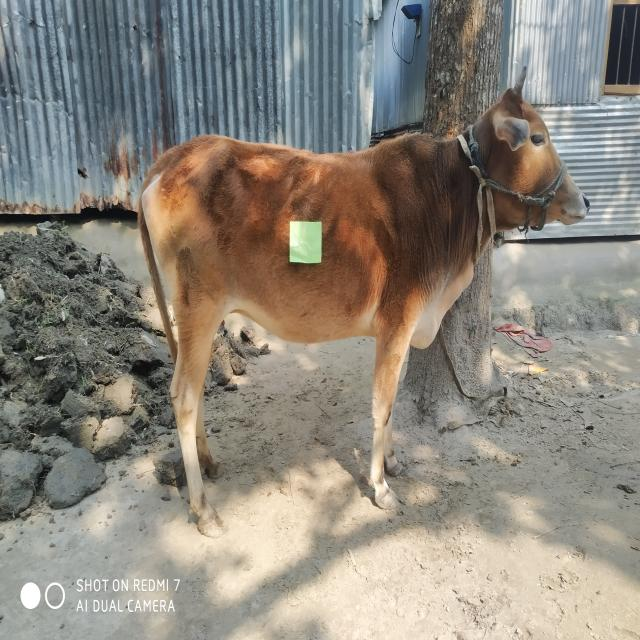badan_sapi: (168, 148, 419, 343)
sapi: (133, 66, 590, 538)
